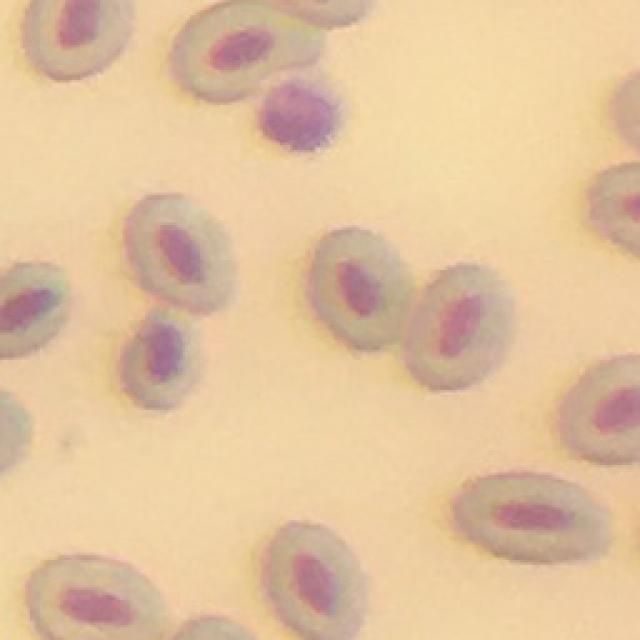RBC: (171, 1, 322, 101), (455, 472, 606, 562), (404, 264, 512, 389), (125, 195, 234, 311), (309, 228, 411, 349), (264, 522, 365, 640), (28, 555, 168, 640), (560, 355, 640, 462), (24, 0, 132, 79), (121, 310, 199, 408), (0, 262, 68, 356), (590, 164, 640, 254)
WBC: (260, 82, 332, 150)
